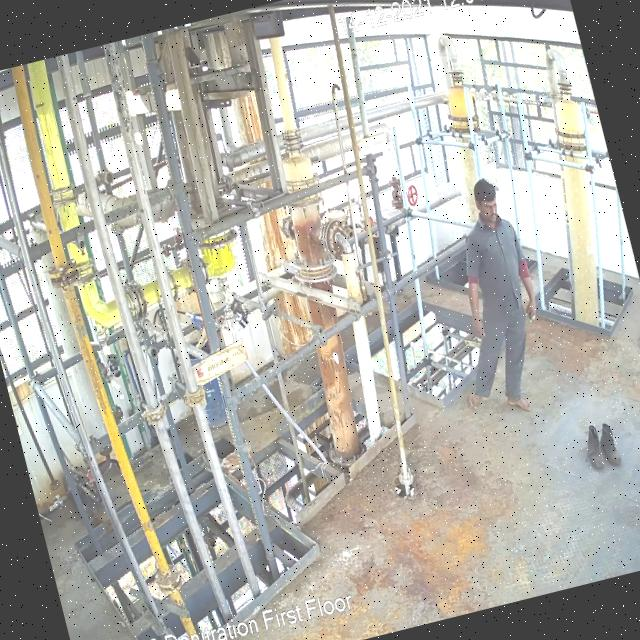boots: (592, 416, 628, 476), (576, 422, 608, 472)
no-boots: (503, 384, 534, 416)
